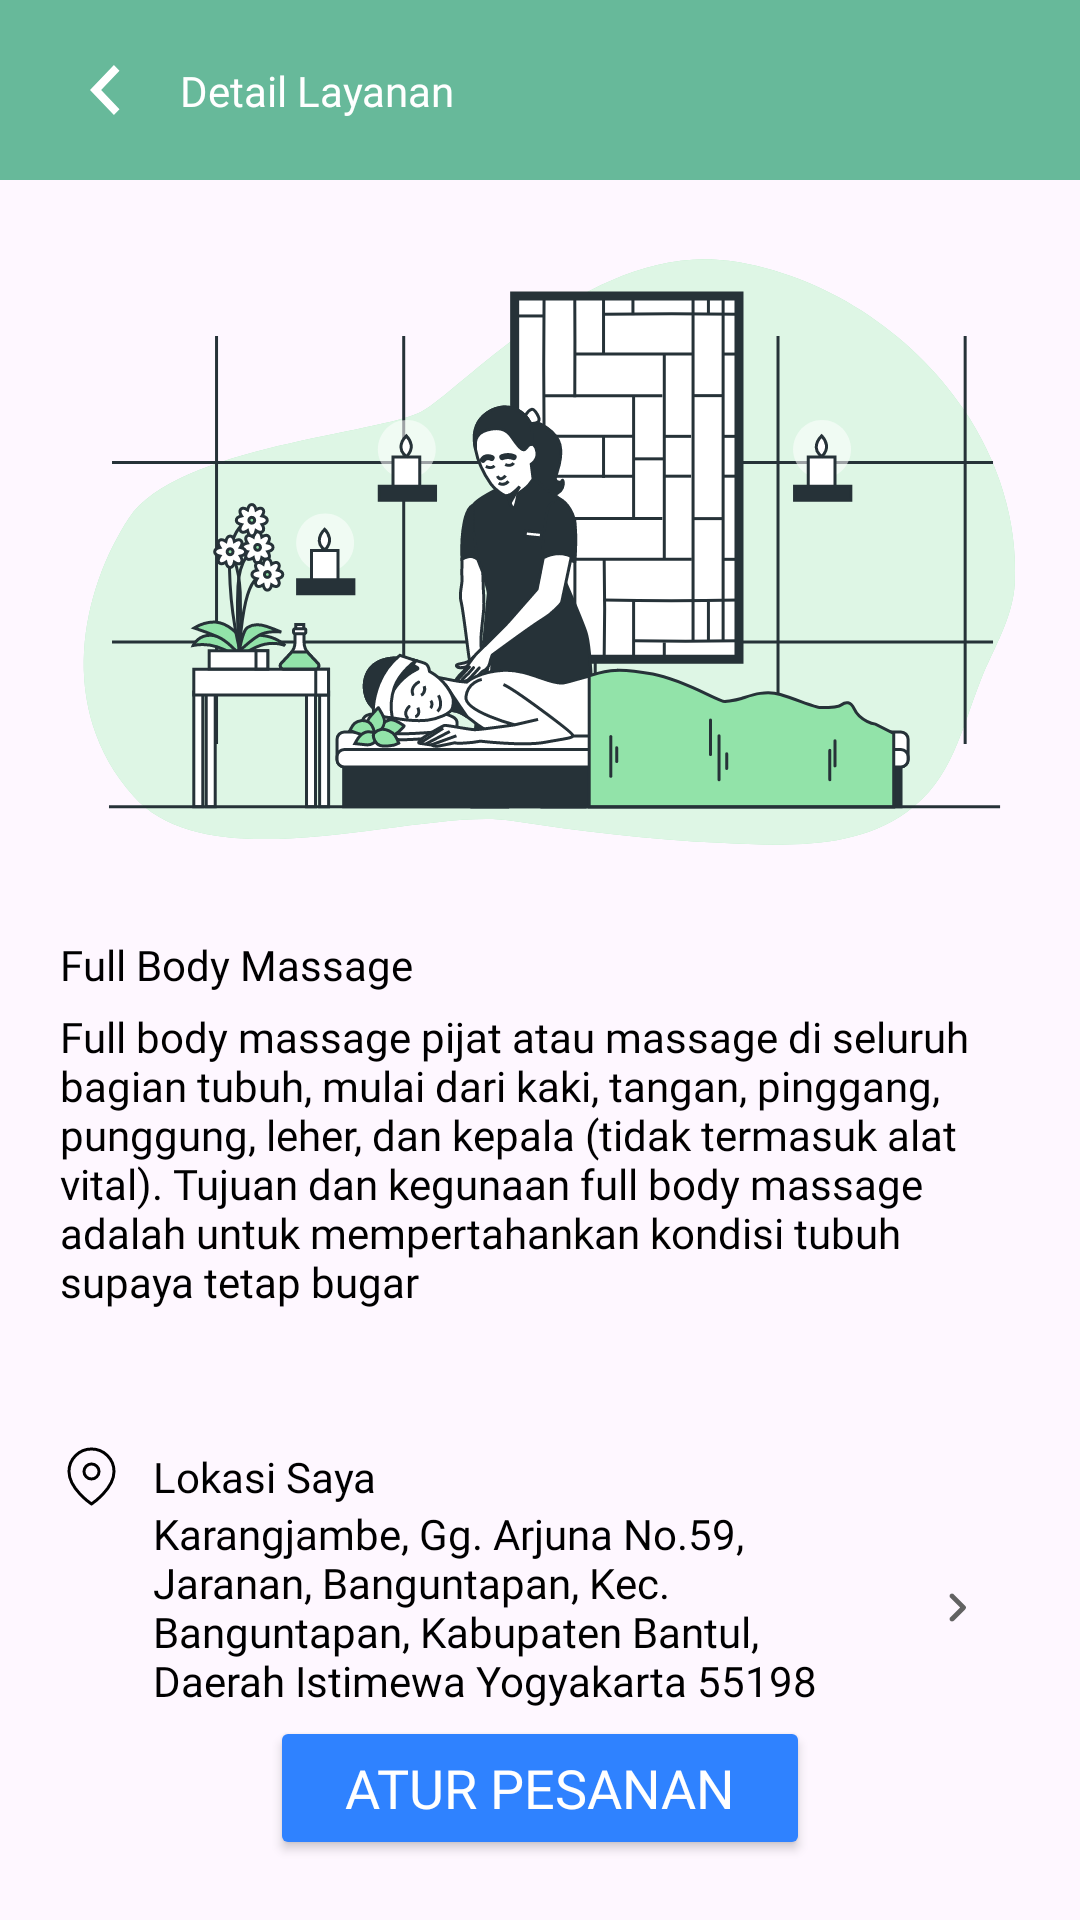

Icons on this 1080 × 1920 Android screen, each with its box as (x1, y1, x2, y2):
arrow forward: (949, 1593, 966, 1622)
back: (90, 65, 120, 115)
map pin: (67, 1447, 116, 1506)
